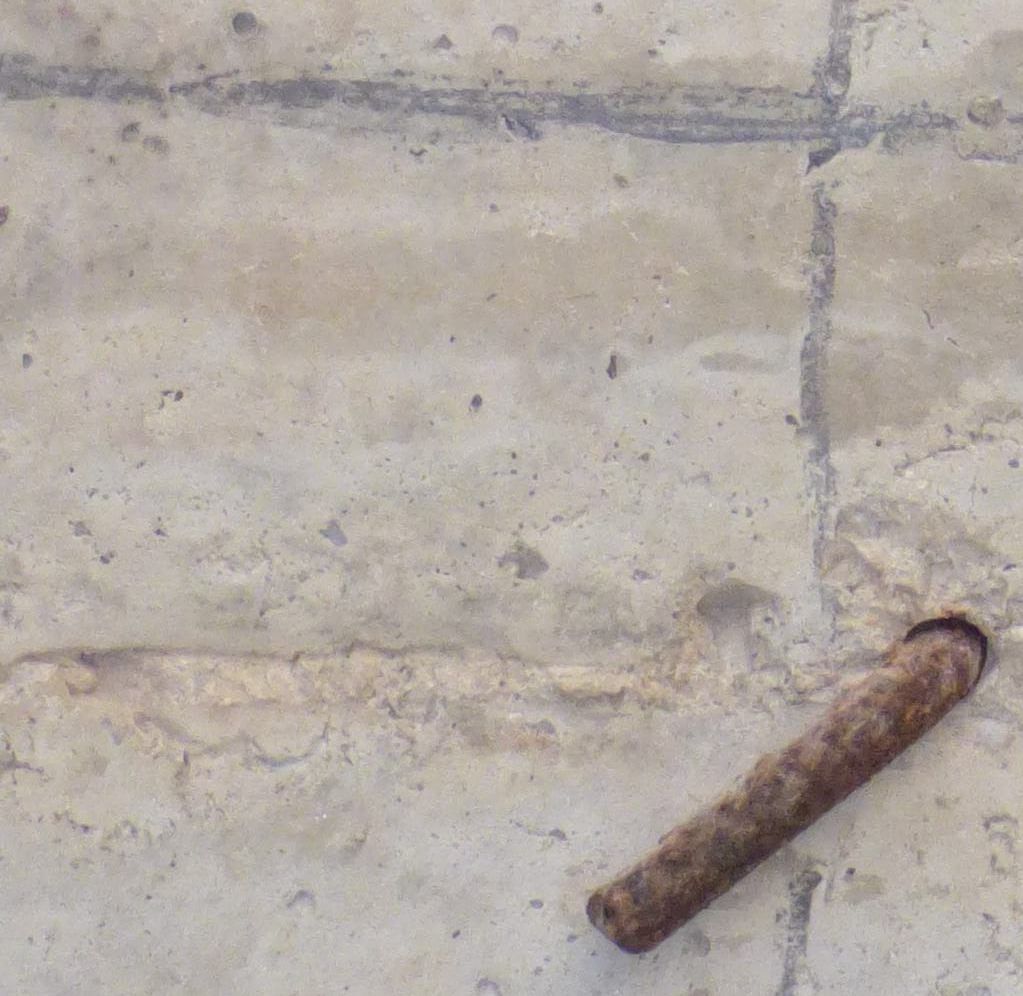Exposed reinforcement: (584, 628, 985, 956)
